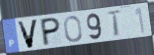1: (134, 7, 146, 35)
9: (86, 12, 103, 41)
O: (63, 14, 84, 43)
P: (41, 16, 62, 48)
T: (106, 10, 124, 38)
V: (16, 18, 40, 50)
